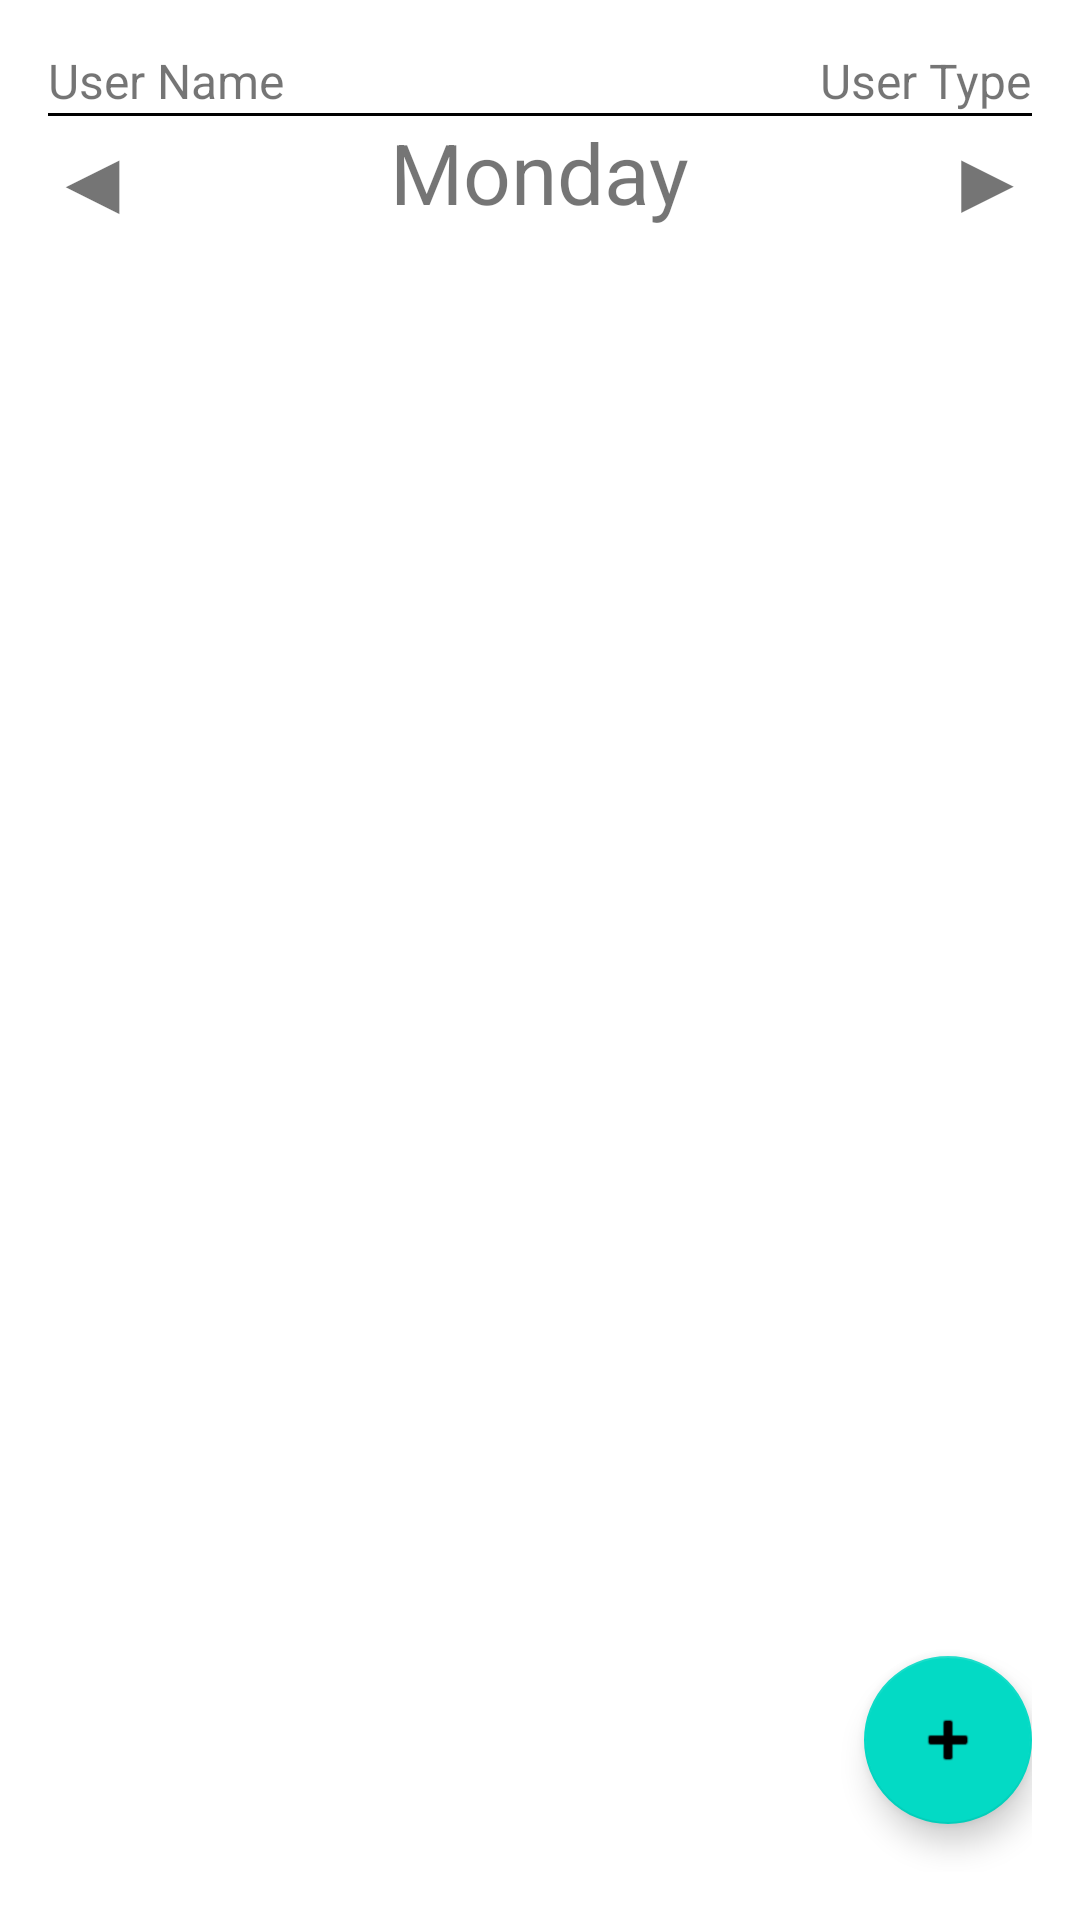

Icons on this 1080px×1920px Android screen, each with its box as (x1, y1, x2, y2):
add: (864, 1656, 1032, 1824)
